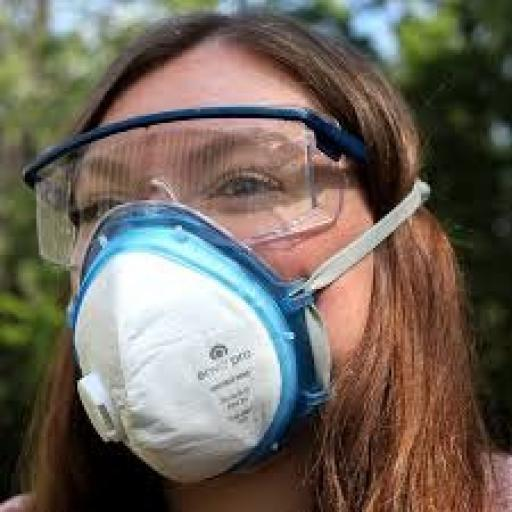mask: (52, 204, 317, 484)
